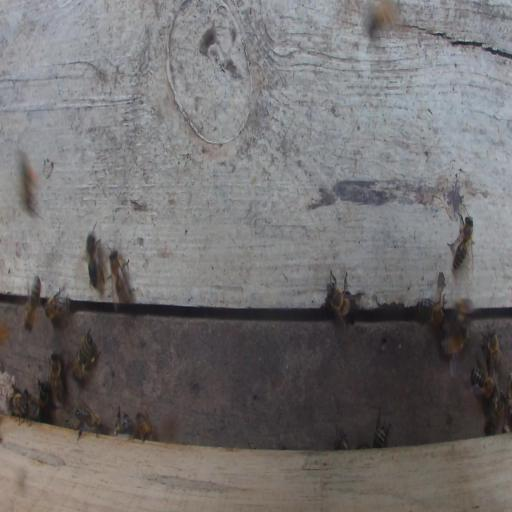nonpollenbee: (325, 269, 355, 322), (447, 214, 474, 271), (108, 248, 131, 310), (19, 151, 40, 216), (414, 294, 447, 332), (23, 274, 42, 333), (74, 403, 101, 441), (470, 364, 497, 401), (86, 228, 102, 290), (440, 326, 469, 358), (482, 326, 501, 374), (44, 288, 70, 321), (49, 351, 64, 408), (10, 393, 39, 422), (486, 390, 504, 435), (369, 4, 396, 31), (132, 411, 153, 442), (114, 408, 134, 436), (454, 297, 473, 326), (38, 381, 51, 422), (373, 423, 391, 448), (337, 428, 349, 450), (50, 385, 50, 386)
pollenbee: (73, 333, 95, 379)
